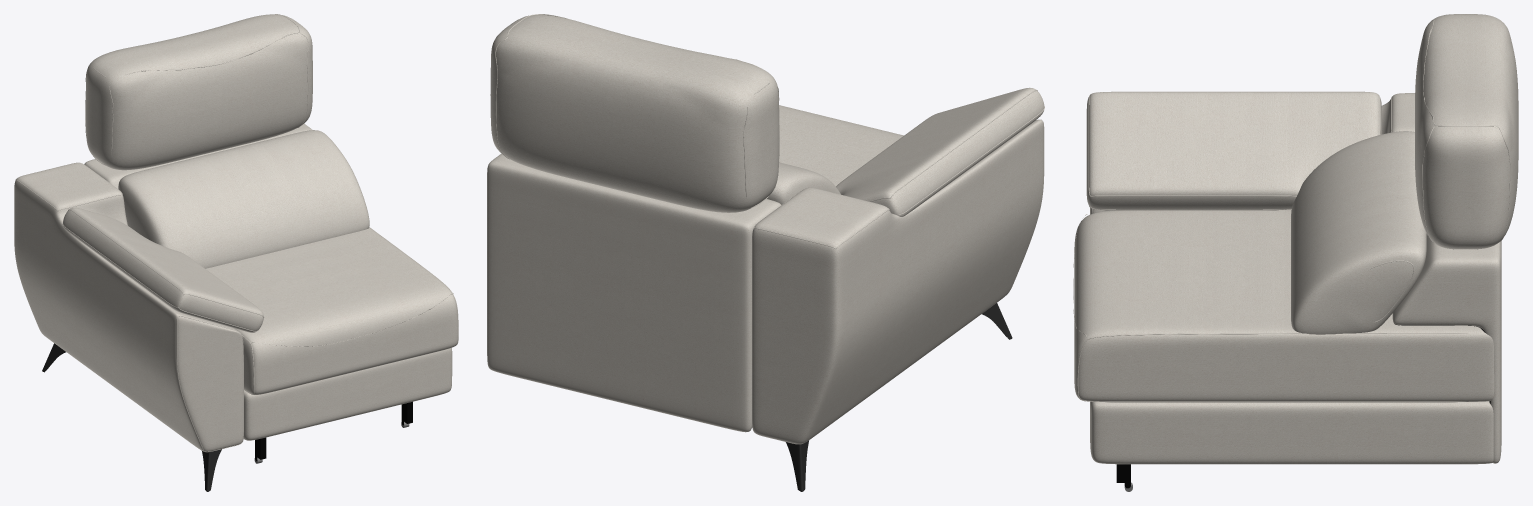
The model's file is arm.glb.
3 views of the same model, side by side, from view 1: azimuth 30°, elevation 25°; view 2: azimuth 150°, elevation 25°; view 3: azimuth 270°, elevation 25° (orthographic). The views are drawn at different scales.
Parts seen in each view (by area): view 1: assento, object 11, object 4, object 5, object 9, Costa; view 2: Costa, object 11, object 4, object 9, assento, object 5, object 15; view 3: assento, object 9, object 5, object 4, Costa, D=~ 0,00 m (×2), object 11.
Part boxes in pixels (left/top/right/bottom): assento: left=206, top=227, right=458, bottom=463; object 11: left=14, top=162, right=243, bottom=451; object 4: left=85, top=14, right=312, bottom=170; object 5: left=118, top=130, right=369, bottom=268; object 9: left=63, top=207, right=263, bottom=332; Costa: left=84, top=123, right=312, bottom=188; Costa: left=487, top=154, right=781, bottom=432; object 11: left=752, top=119, right=1043, bottom=444; object 4: left=490, top=14, right=779, bottom=212; object 9: left=836, top=87, right=1044, bottom=216; assento: left=752, top=105, right=903, bottom=427; object 5: left=767, top=162, right=840, bottom=204; object 15: left=786, top=440, right=808, bottom=491; assento: left=1074, top=209, right=1494, bottom=491; object 9: left=1086, top=92, right=1381, bottom=209; object 5: left=1291, top=131, right=1426, bottom=334; object 4: left=1415, top=14, right=1518, bottom=249; Costa: left=1392, top=234, right=1501, bottom=463; D=~ 0,00 m (×2): left=1077, top=91, right=1469, bottom=402; object 11: left=1090, top=93, right=1414, bottom=214.
Bounding box in the file's own units: 0.9967 × 1.04 × 1.1.
Materials: 5 (1 with a texture image).
